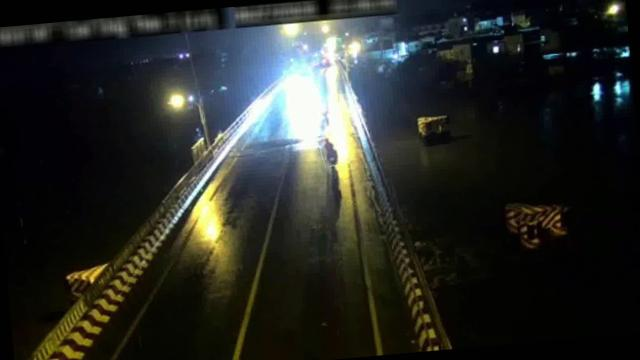Bike: (318, 136, 339, 166)
